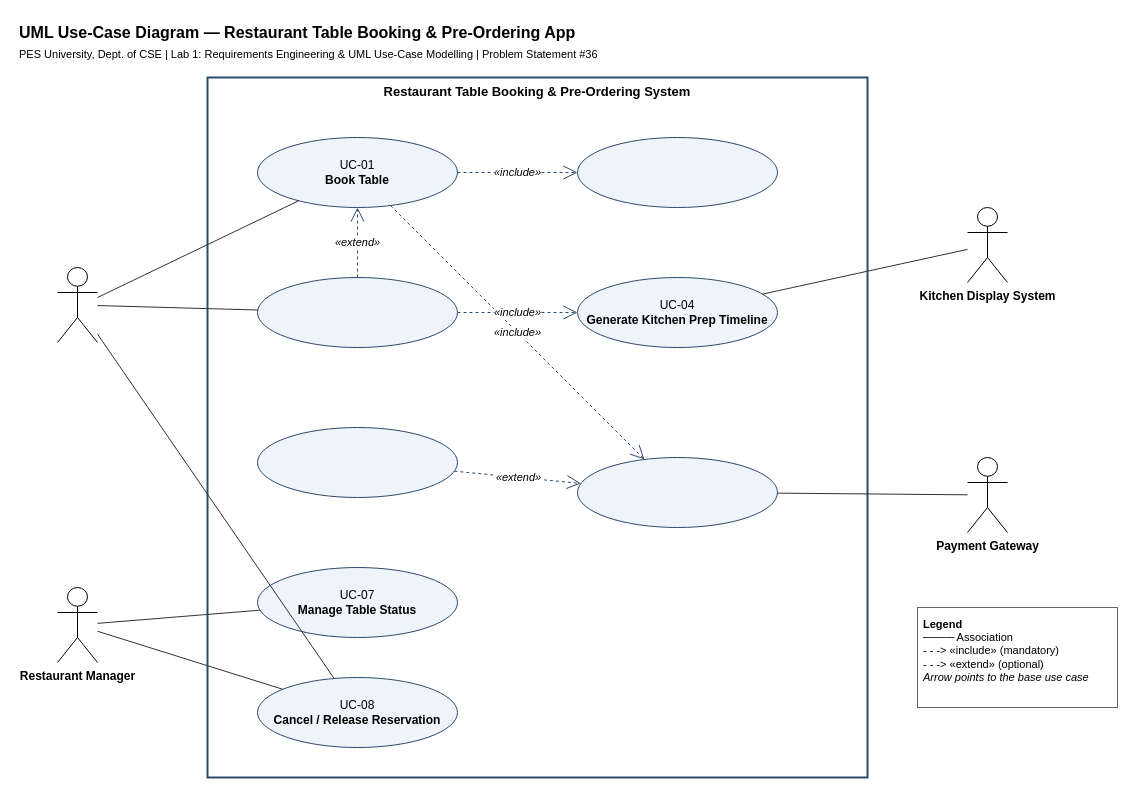
Some shapes in this 1135 by 795 pixel diagram are drawn without their labels. Each missing label, with the centre of its shape:
"Diner" goes at point (77, 304).
"UC-02 Validate Table Availability" goes at point (677, 172).
"UC-03 Pre-Order Menu Items" goes at point (357, 312).
"UC-05 Make Payment" goes at point (677, 492).
"UC-06 Apply Promo Code" goes at point (357, 462).
